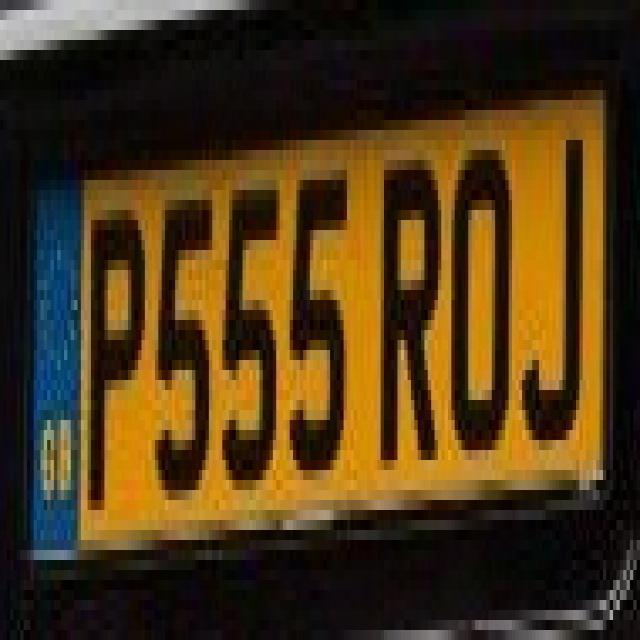license-plate: (37, 103, 618, 539)
